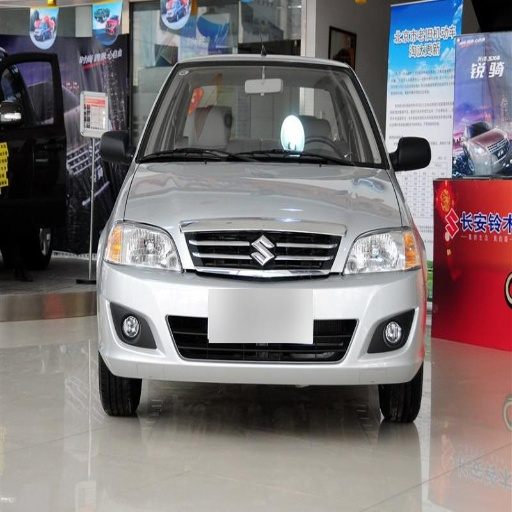front_bumper: (99, 235, 423, 381)
front_right_light: (106, 219, 182, 274)
hood: (127, 163, 403, 275)
left_mirror: (392, 137, 432, 170)
